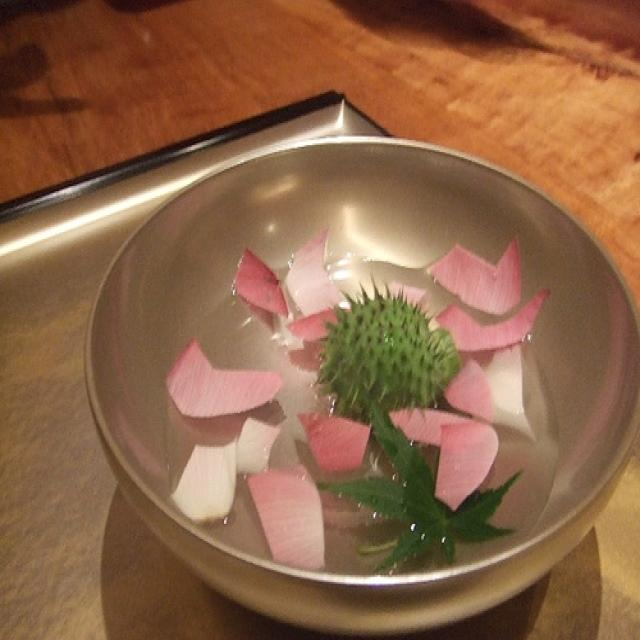汤锅炖物: (111, 115, 626, 598)
